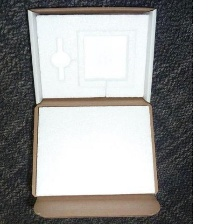foam_box: (32, 102, 157, 199), (32, 10, 152, 102)
